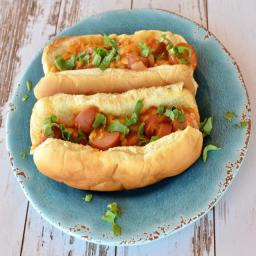hotdog: (35, 18, 216, 190)
